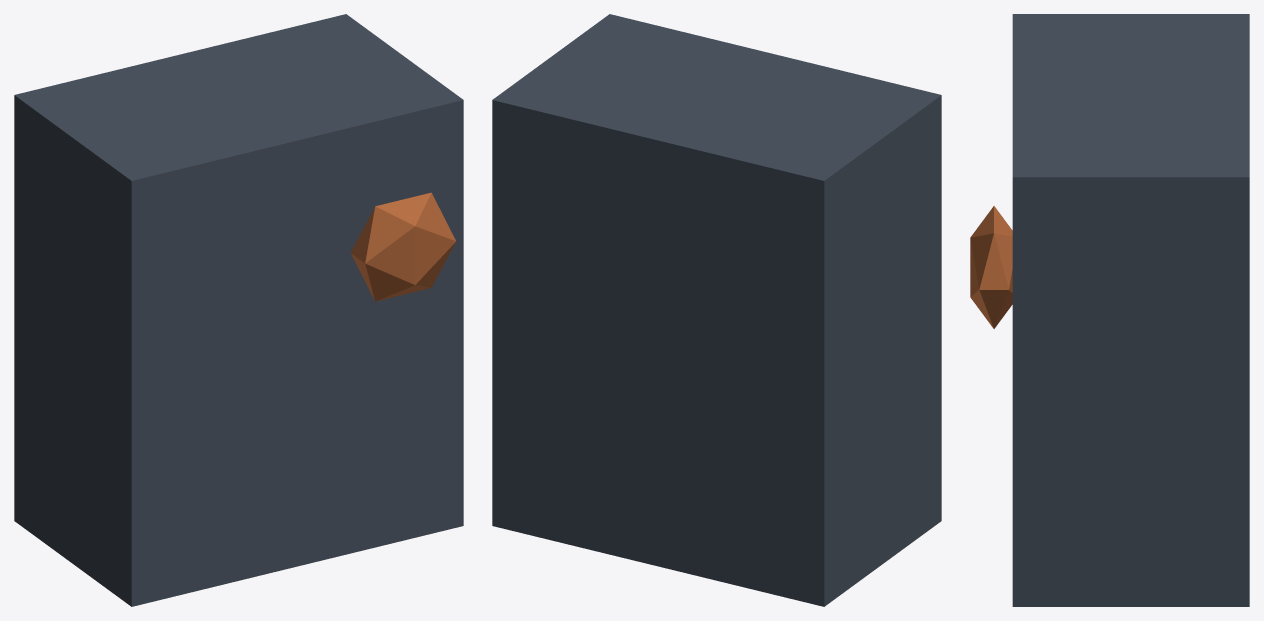
The model's file is body.glb.
3 views of the same model, side by side, from view 1: azimuth 30°, elevation 25°; view 2: azimuth 150°, elevation 25°; view 3: azimuth 270°, elevation 25° (orthographic).
Visible parts, largest first — view 1: chest, chest_emblem; view 2: chest; view 3: chest, chest_emblem.
Boxes of the visible parts, x1,y1,x2,y2 form: chest: [14, 14, 463, 606]; chest_emblem: [350, 192, 456, 301]; chest: [492, 14, 941, 606]; chest: [1012, 14, 1249, 606]; chest_emblem: [970, 206, 1012, 328].
Bounding box in the file's own units: 0.62 × 0.76 × 0.4483.
